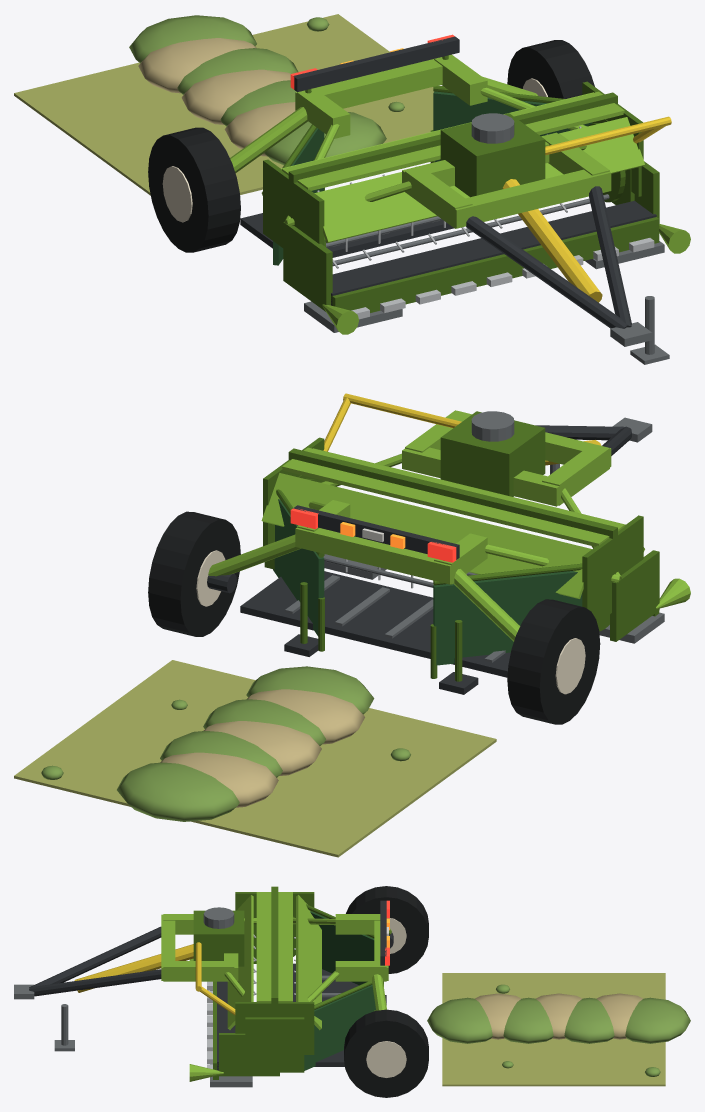
File: swather.glb
3 views of the same model, one above another, from view 1: azimuth 30°, elevation 25°; view 2: azimuth 150°, elevation 25°; view 3: azimuth 270°, elevation 25° (orthographic). The views are drawn at different scales.
Visible parts, largest first — view 1: SwatherBody, SwatherProps, SwatherReel; view 2: SwatherBody, SwatherProps, SwatherReel; view 3: SwatherBody, SwatherProps.
Boxes of the visible parts, bbox=[...] form: SwatherBody: bbox=[148, 34, 690, 364]; SwatherProps: bbox=[14, 14, 433, 195]; SwatherReel: bbox=[317, 123, 625, 268]; SwatherBody: bbox=[148, 393, 690, 724]; SwatherProps: bbox=[14, 660, 496, 857]; SwatherReel: bbox=[306, 478, 609, 631]; SwatherBody: bbox=[14, 886, 428, 1097]; SwatherProps: bbox=[427, 973, 690, 1086].
Size of the model in its own units: 3.16 by 1.27 by 6.67.
